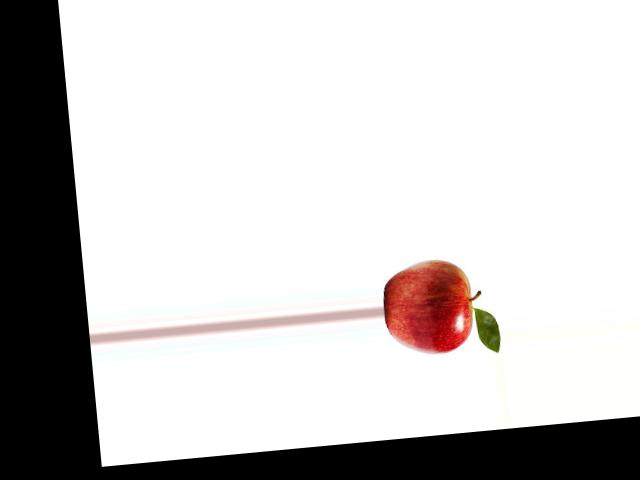apple: (379, 254, 482, 364)
